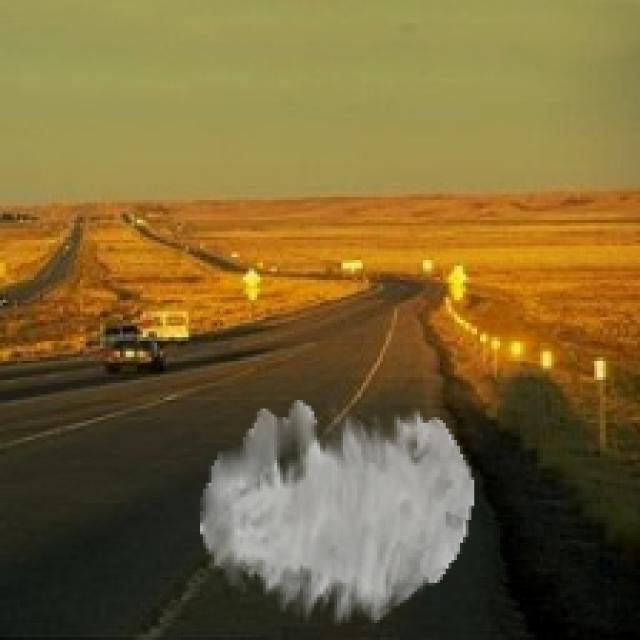smoke: (200, 400, 474, 626)
